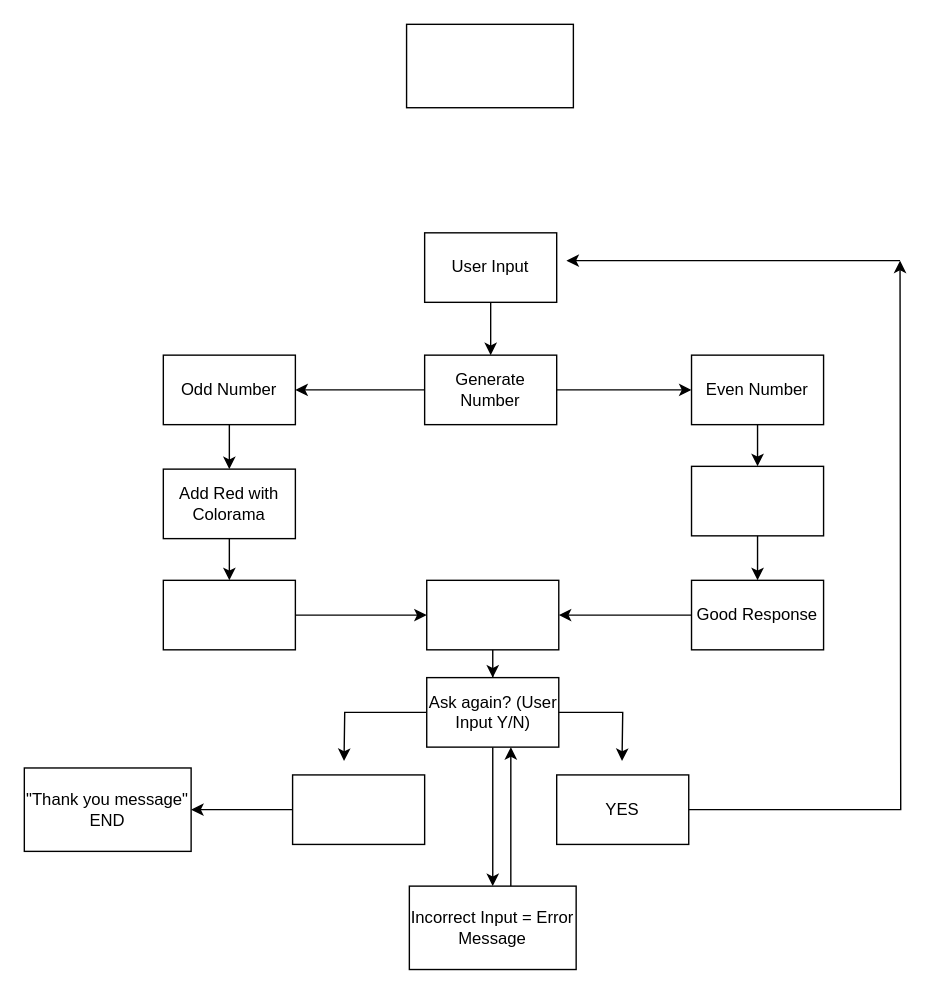
The diagram is 937 pixels wide and 994 high, and some of its shapes have lost their labels. The shapes that lost their labels are listed below. From the top down, each one's box as (x1, y1, x2, y2) in pixels, then its label:
(405, 23, 573, 108): 8ball
(690, 465, 824, 536): Add Green with Colorama
(162, 579, 295, 650): Bad Response
(425, 579, 559, 650): Reset Text Colour
(291, 774, 425, 844): NO
